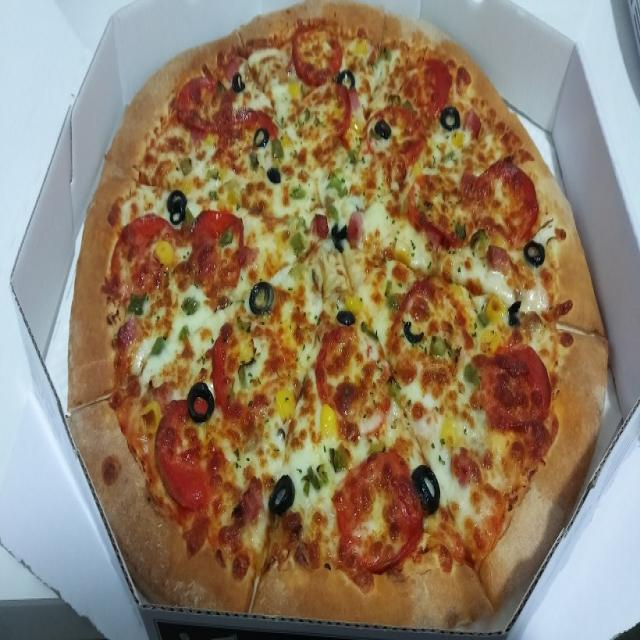Wet Waste: (58, 2, 615, 640)
